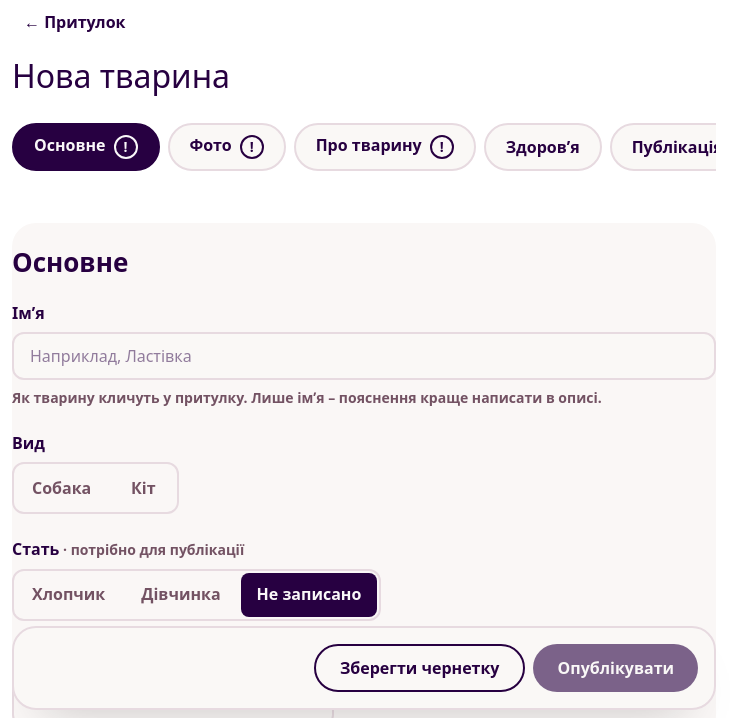
it: size hints follow the species › shows labels only until a species is chosen, then the kilograms of that species, live
The image size is (733, 718).
expect the text "кг" is not shown: met
Click the radio button labelled "Кіт": (143, 488) [131,477,156,499]
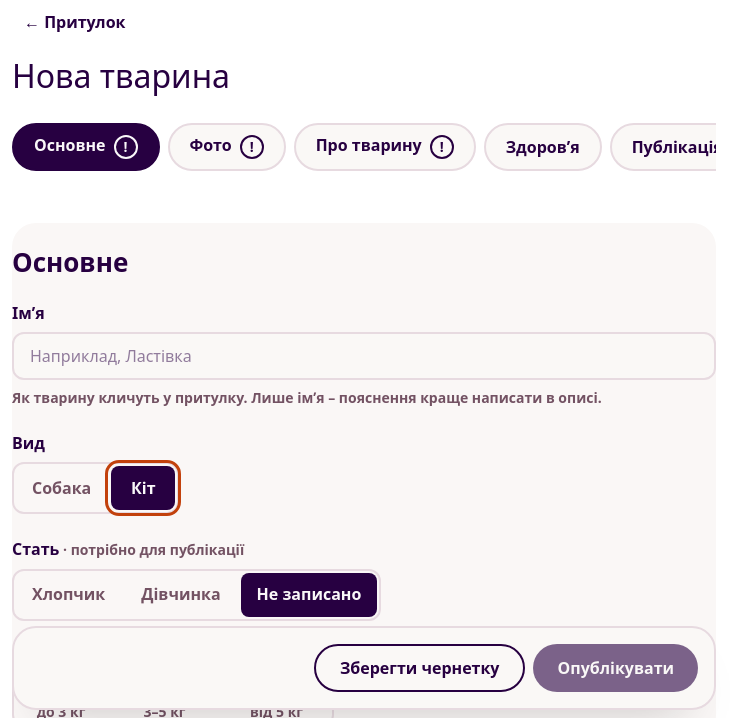
Click the radio button labelled "Собака": (62, 488) [32,477,91,499]
(page scrolled)
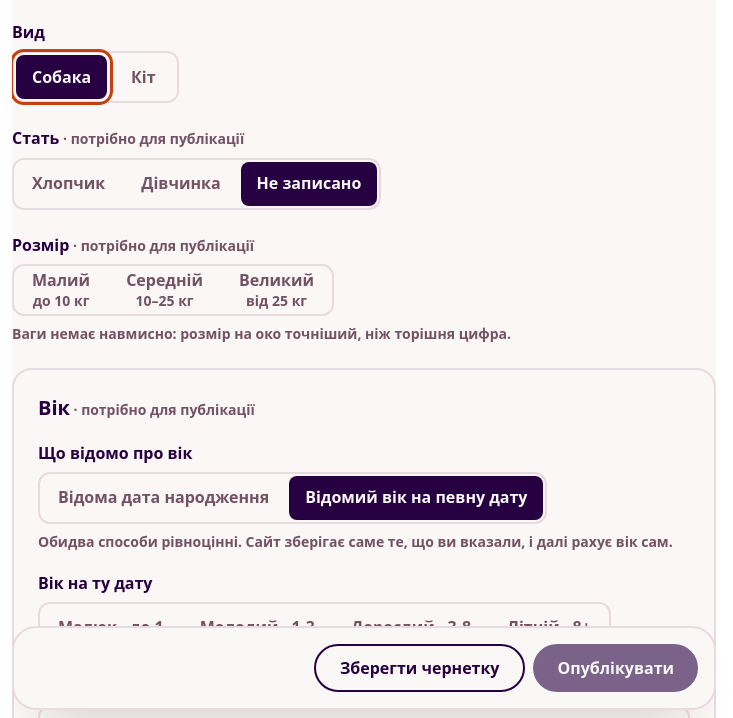
expect the text "до 10 кг" is shown: met, box [33,291,89,311]
expect the text "10–25 кг" is shown: met, box [136,291,194,311]
expect the text "від 25 кг" is shown: met, box [246,291,307,311]
